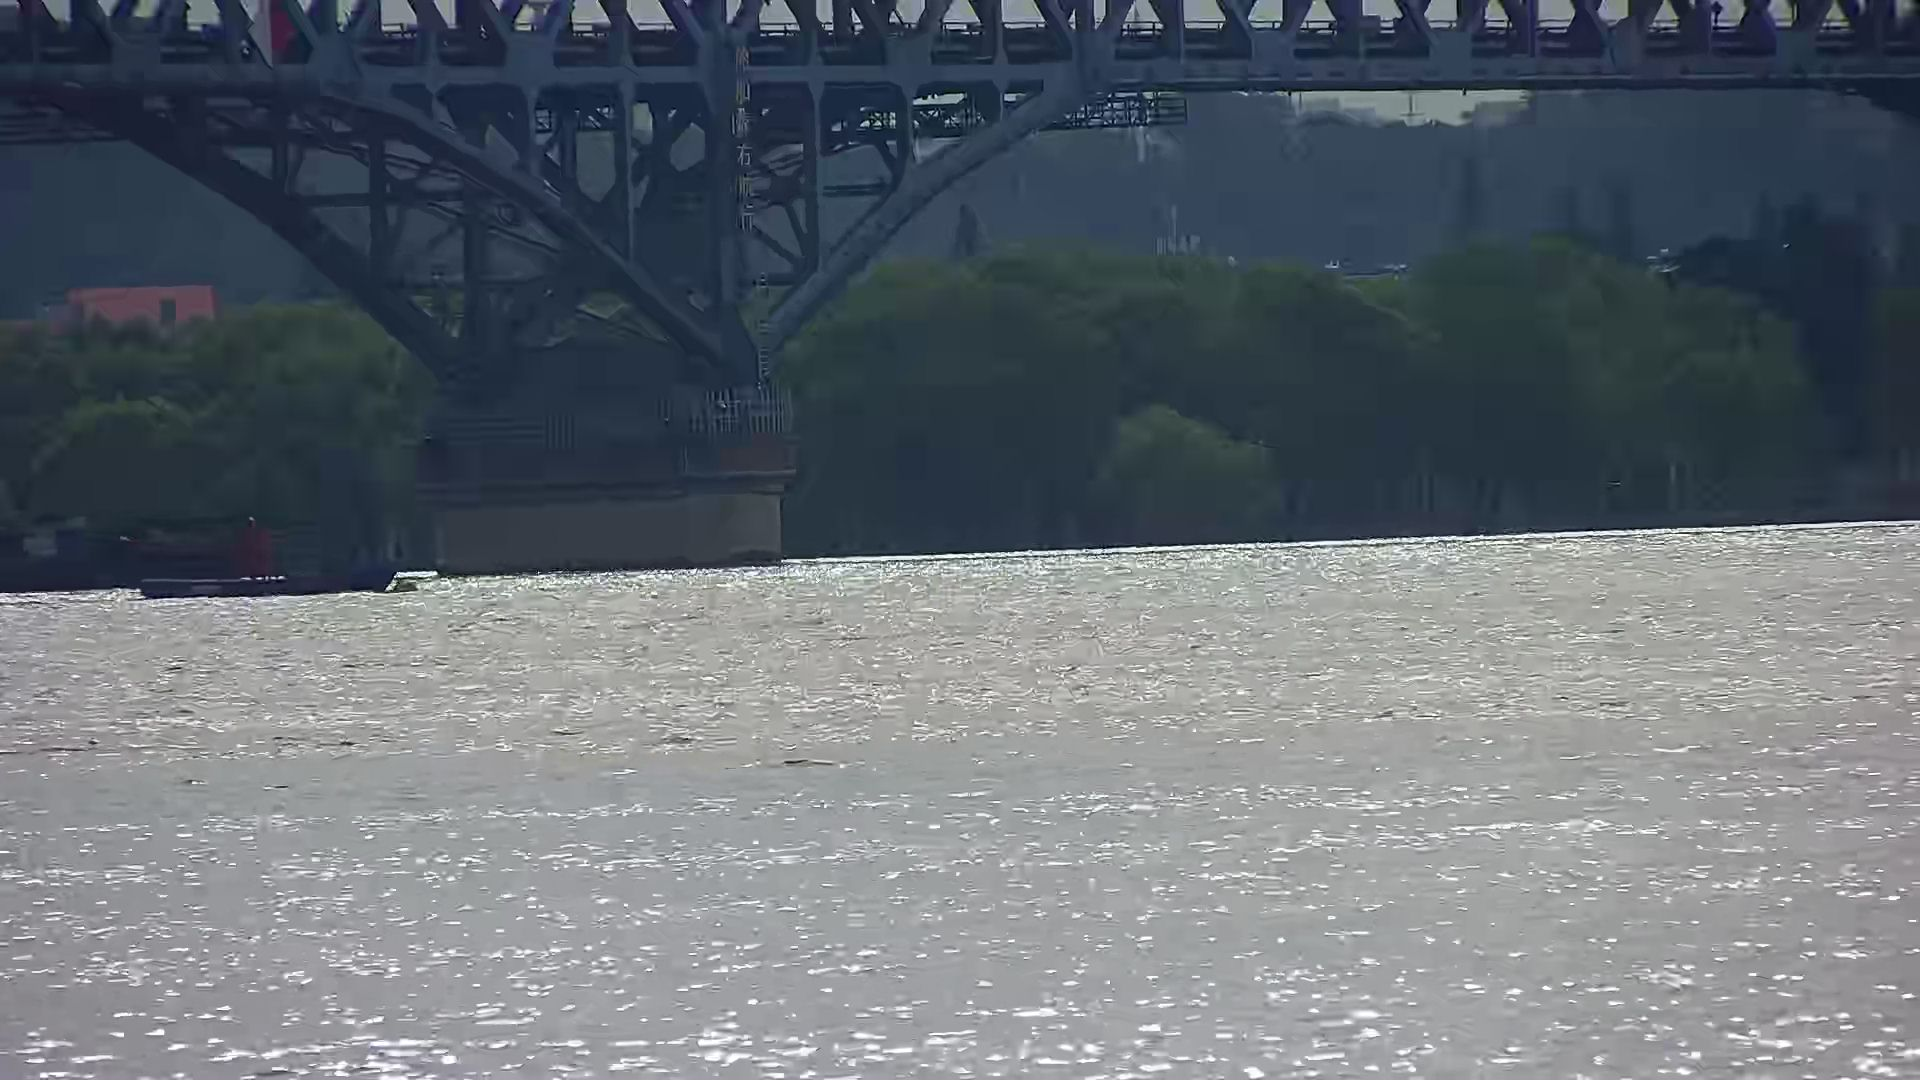boat: (113, 535, 411, 603)
bridge: (1, 1, 1913, 582)
